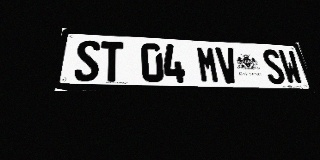0: (141, 43, 164, 83)
4: (162, 44, 186, 83)
M: (196, 46, 221, 83)
S: (74, 40, 100, 82), (261, 49, 287, 84)
T: (100, 41, 123, 82)
V: (215, 47, 240, 84)
W: (278, 50, 304, 85)
